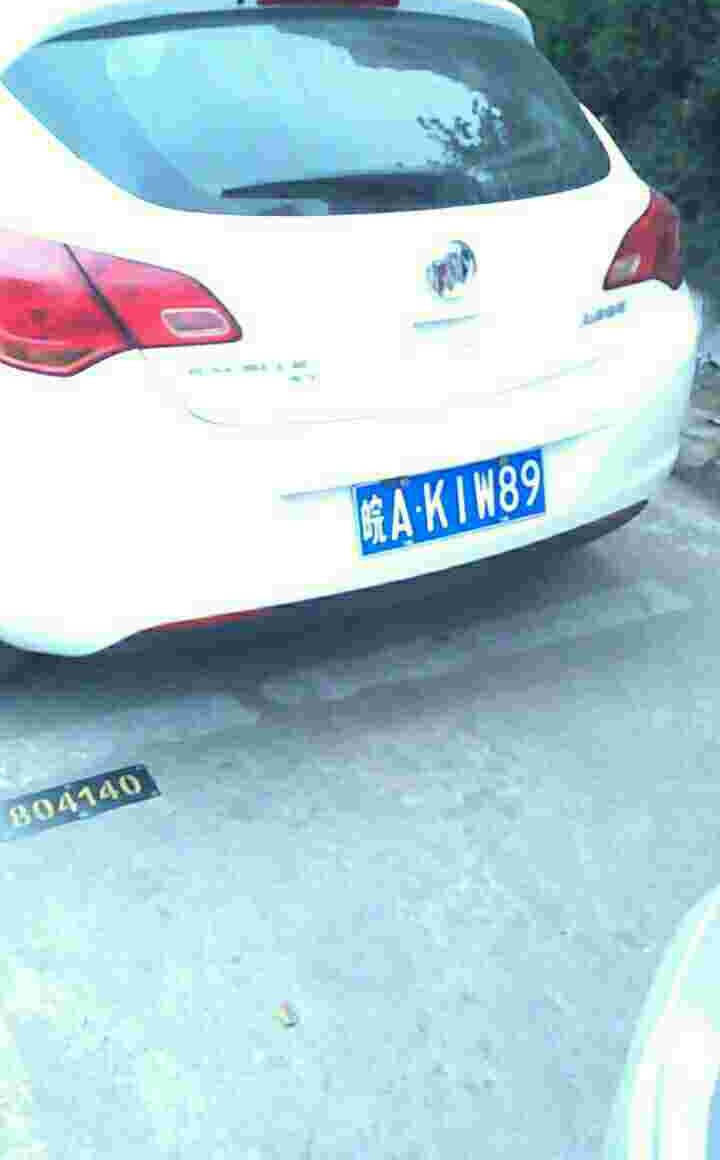license_plate: (351, 446, 553, 560)
